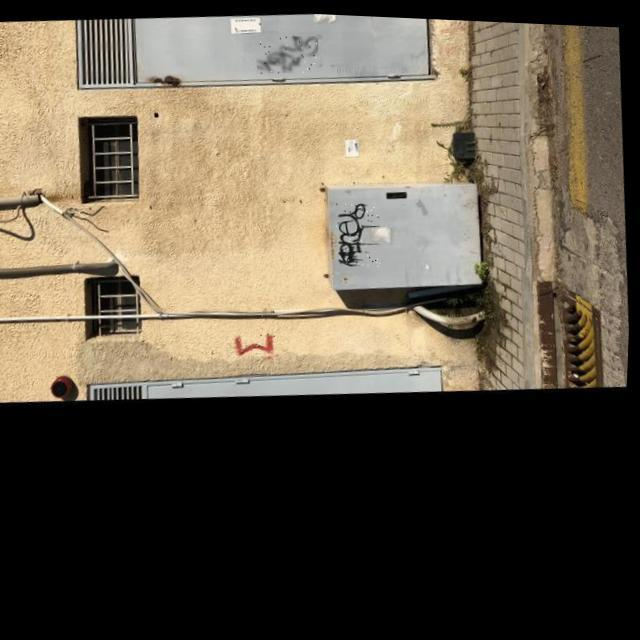-: (334, 197, 386, 266), (255, 31, 320, 72), (236, 328, 280, 356)
